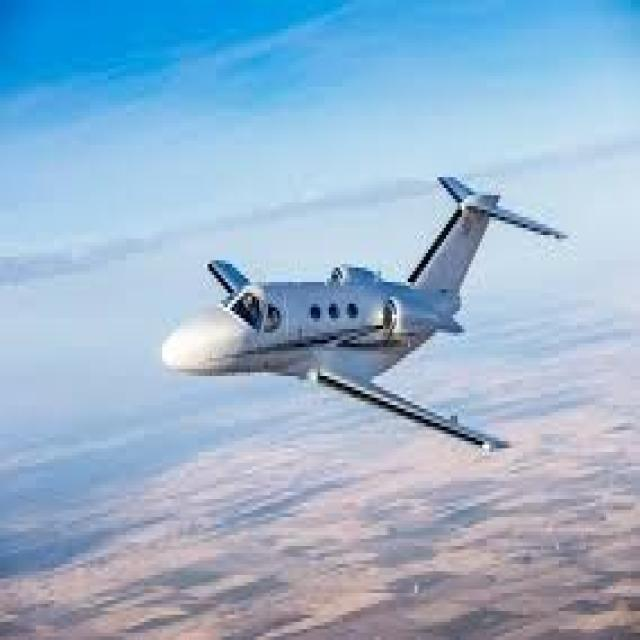jet: (144, 155, 569, 520)
